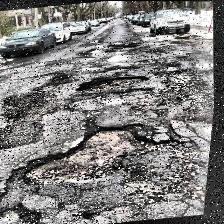pothole: (19, 111, 169, 192), (0, 196, 84, 224), (74, 70, 154, 92)
